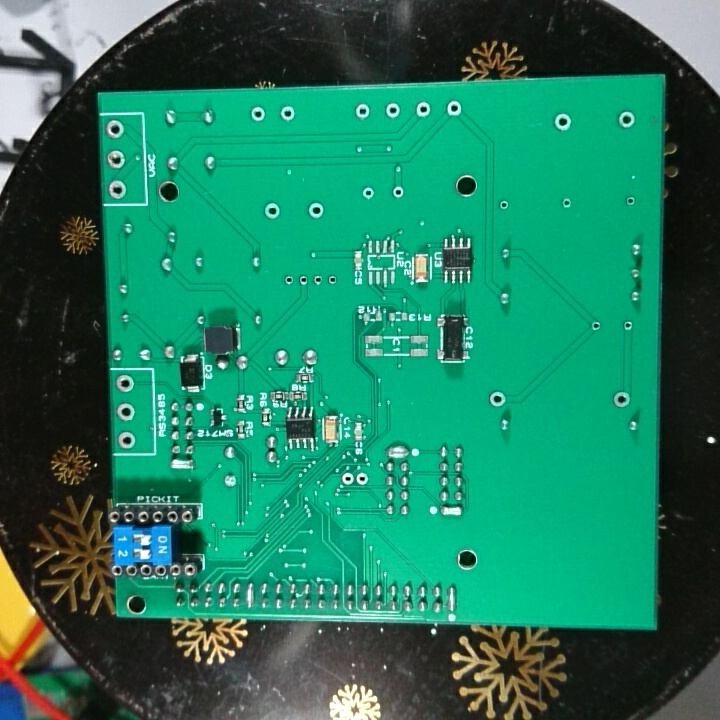F: (551, 110, 576, 135), (104, 146, 129, 171), (616, 106, 638, 133), (114, 371, 137, 396), (107, 177, 130, 202), (304, 198, 327, 223), (104, 117, 126, 142), (260, 200, 285, 222), (611, 387, 632, 412), (246, 104, 269, 126), (116, 429, 139, 450), (444, 98, 464, 121), (221, 471, 241, 493), (116, 401, 136, 423), (276, 103, 298, 123), (413, 100, 433, 121), (486, 388, 505, 410), (383, 100, 402, 121), (353, 101, 372, 121), (339, 470, 355, 492), (309, 271, 325, 292), (353, 470, 370, 489), (360, 183, 376, 202), (589, 317, 604, 337), (623, 193, 640, 209), (559, 195, 573, 214), (390, 184, 404, 203), (497, 198, 512, 215), (621, 317, 635, 335), (281, 272, 295, 290), (296, 272, 310, 290), (325, 270, 338, 289)
P: (384, 440, 412, 461), (167, 456, 199, 472), (445, 582, 459, 613), (438, 503, 463, 518), (244, 578, 256, 609)
